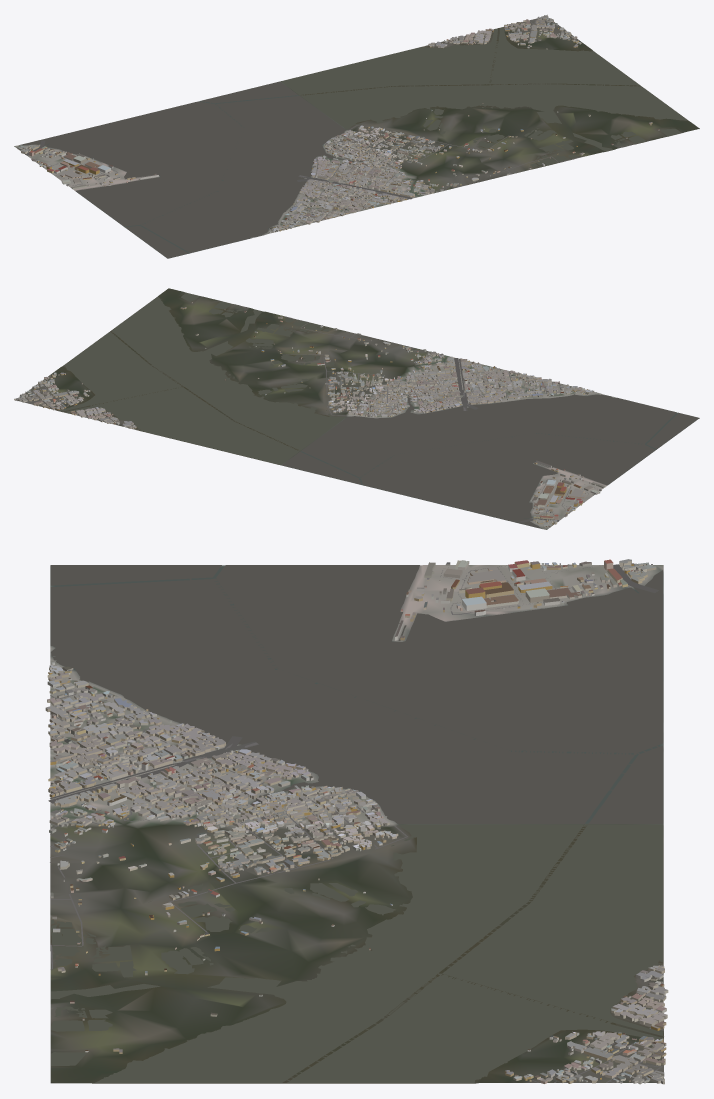
The picture shows the model from 3 angles, top to bottom: view 1: azimuth 30°, elevation 25°; view 2: azimuth 150°, elevation 25°; view 3: azimuth 270°, elevation 25°; orthographic projection. The views are drawn at different scales.
Visible parts, largest first — view 1: water, ground, buildings, roads; view 2: water, ground, buildings, roads; view 3: water, ground, buildings, roads.
Part boxes in pixels (x1=…): water: x1=20, y1=27, x2=687, y2=258; ground: x1=14, y1=17, x2=699, y2=258; buildings: x1=17, y1=14, x2=659, y2=232; roads: x1=25, y1=18, x2=583, y2=225; water: x1=58, y1=292, x2=698, y2=528; ground: x1=15, y1=288, x2=699, y2=529; buildings: x1=14, y1=302, x2=605, y2=527; roads: x1=25, y1=316, x2=597, y2=522; water: x1=50, y1=565, x2=663, y2=1082; ground: x1=50, y1=565, x2=663, y2=1083; buildings: x1=45, y1=559, x2=668, y2=1084; roads: x1=48, y1=564, x2=663, y2=1082.
Bounding box in the file's own units: 2819 × 22.02 × 1422.
